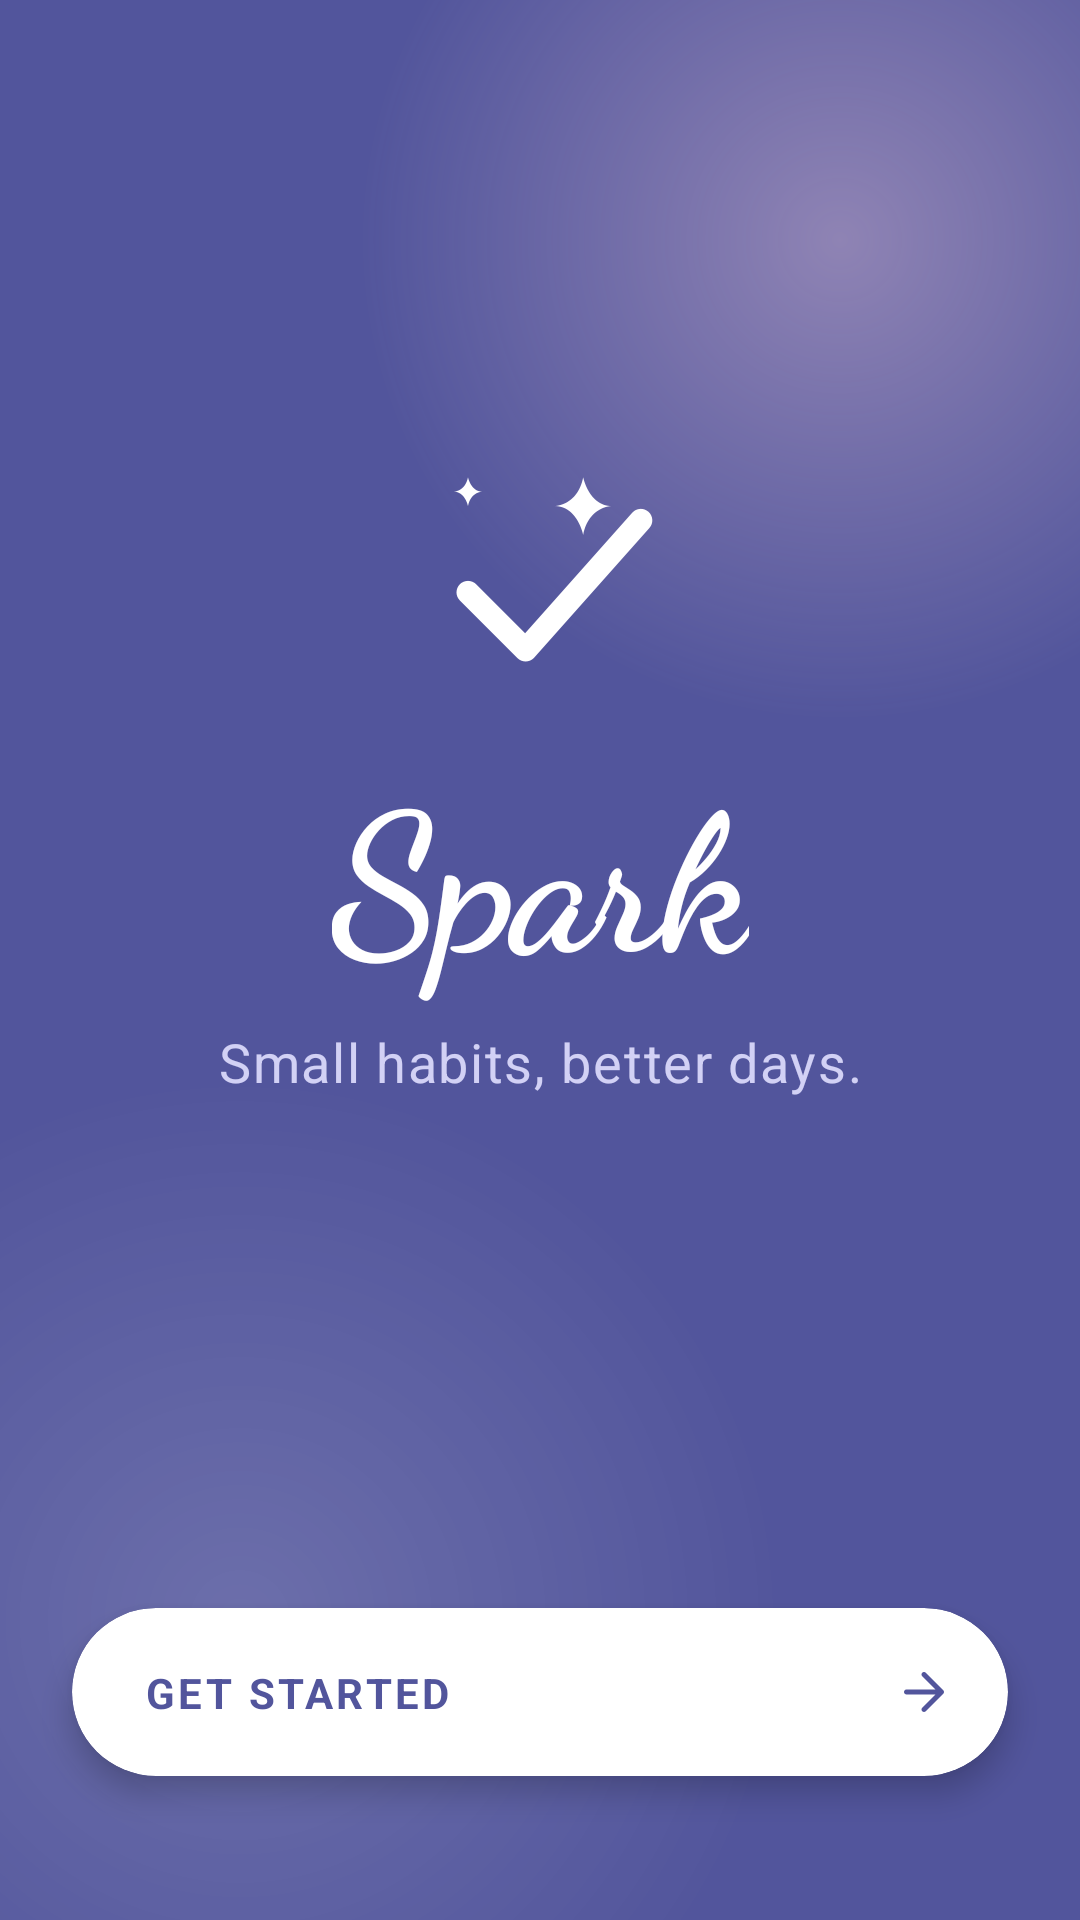

Named icons in this screenshot (1080px×1920px) and their bounding boxes, (x1, y1, x2, y2):
arrow forward: (904, 1672, 944, 1712)
